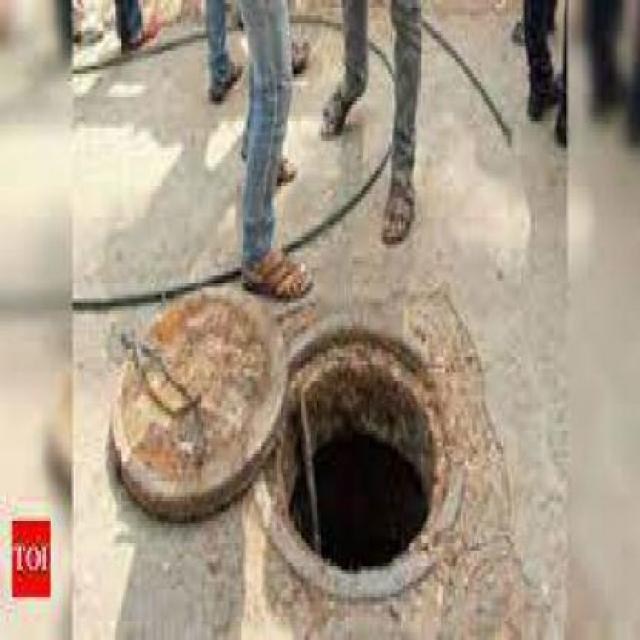Open Manhole: (207, 304, 438, 590)
